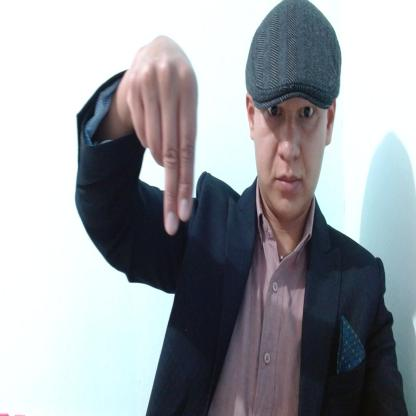N: (126, 35, 199, 236)
